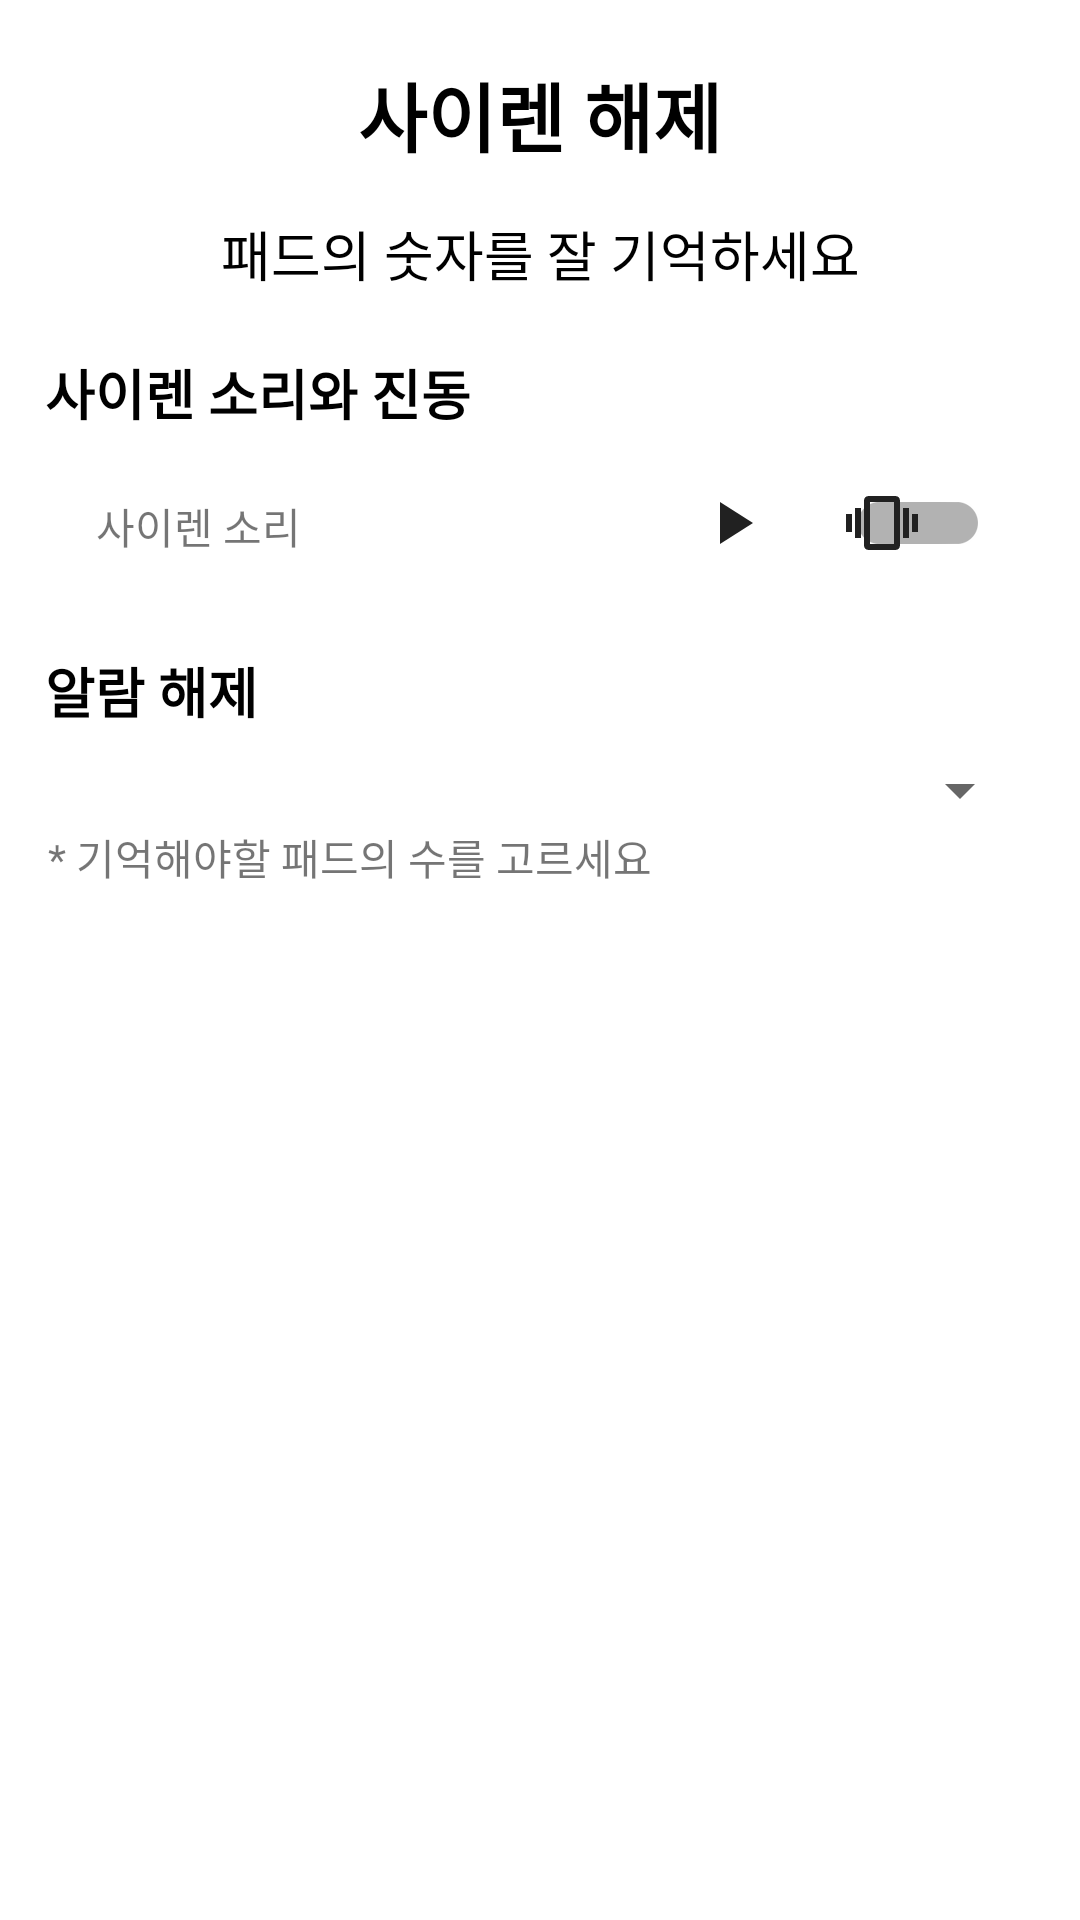

Point at icon controls on the screen. Image size 1080*1920, points as (x,y).
play arrow: (736,523)
